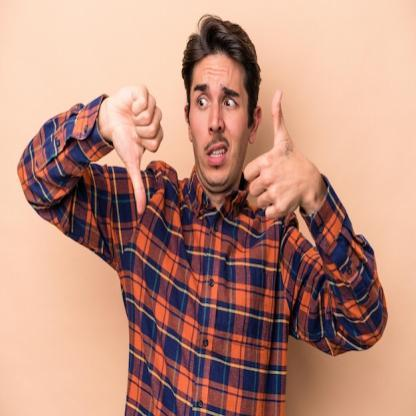thumb_down: (112, 81, 164, 218)
thumb_up: (242, 86, 303, 226)
